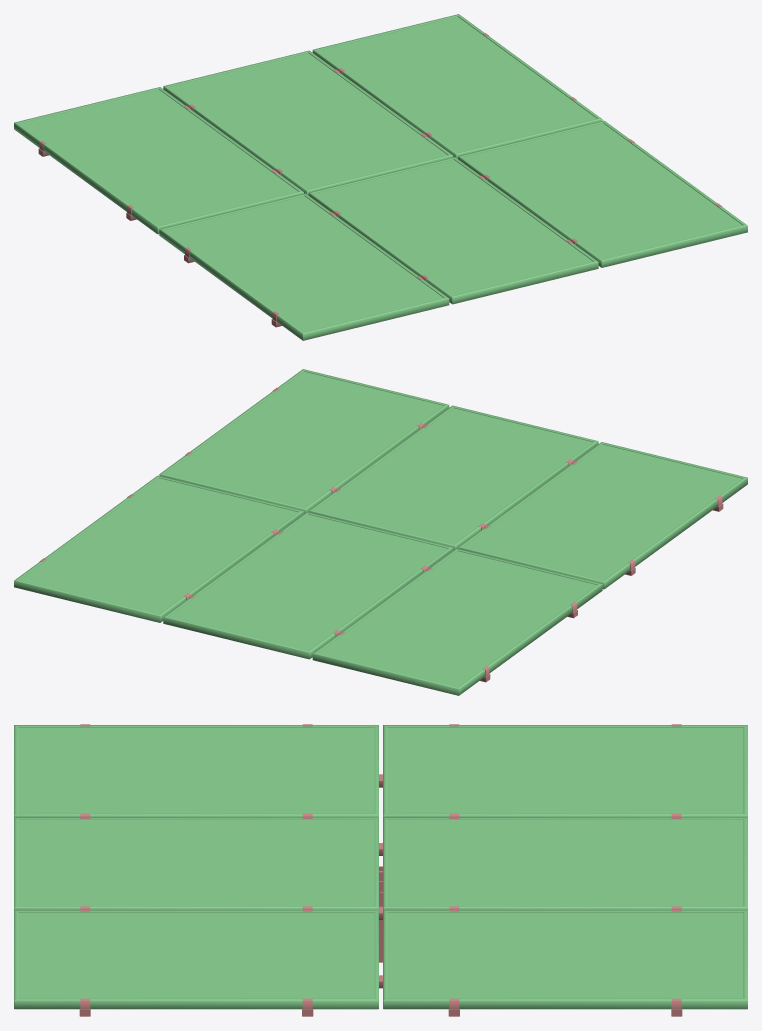
The model's file is Panel_2_Top.fbx.
3 renders of one model, top to bottom at view 1: azimuth 30°, elevation 25°; view 2: azimuth 150°, elevation 25°; view 3: azimuth 270°, elevation 25°, orthographic. The views are drawn at different scales.
Parts seen in each view (by area): view 1: Palel_2_Top_LOD0; view 2: Palel_2_Top_LOD0; view 3: Palel_2_Top_LOD0.
Boxes of the visible parts, left/top/right/bottom form: Palel_2_Top_LOD0: left=14, top=14, right=747, bottom=340; Palel_2_Top_LOD0: left=14, top=369, right=747, bottom=695; Palel_2_Top_LOD0: left=14, top=724, right=747, bottom=1016.
Size of what is drawn, in the model's own units: 3.05 by 0.4762 by 3.42.
